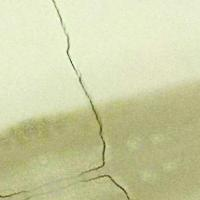crack: (48, 2, 145, 199)
